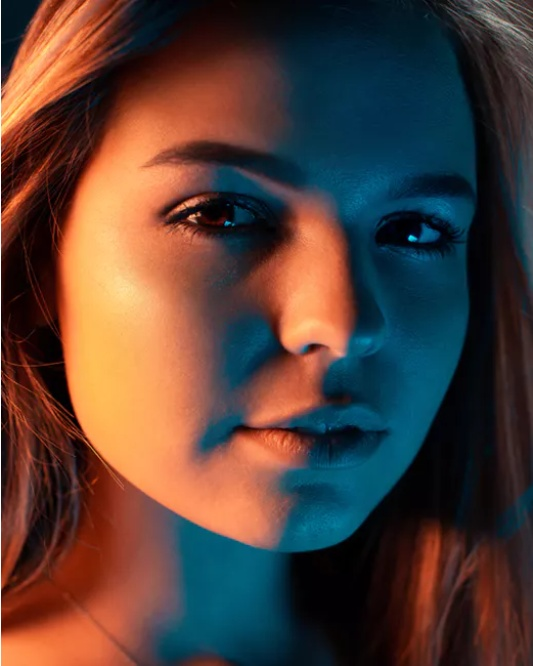face: (67, 11, 479, 550)
